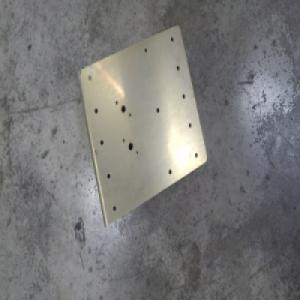MetalSheet: (75, 22, 207, 230)
